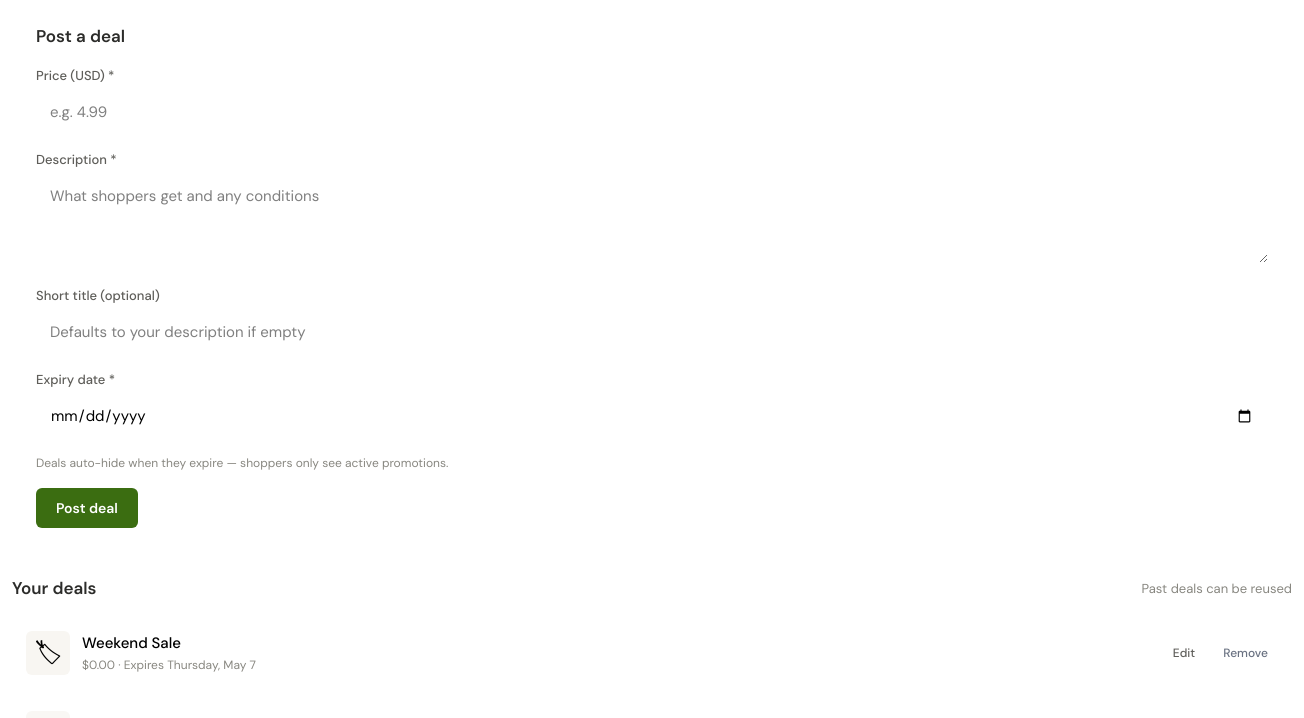
it: ManageDealsClient component › shows an edit form when the Edit button is clicked on an active deal
Expected: the text "Weekend Sale" is shown, x1=82 y1=633 x2=181 y2=653
Click the button "Edit" at [1184, 653], box x1=1163 y1=640 x2=1205 y2=666
(page scrolled)
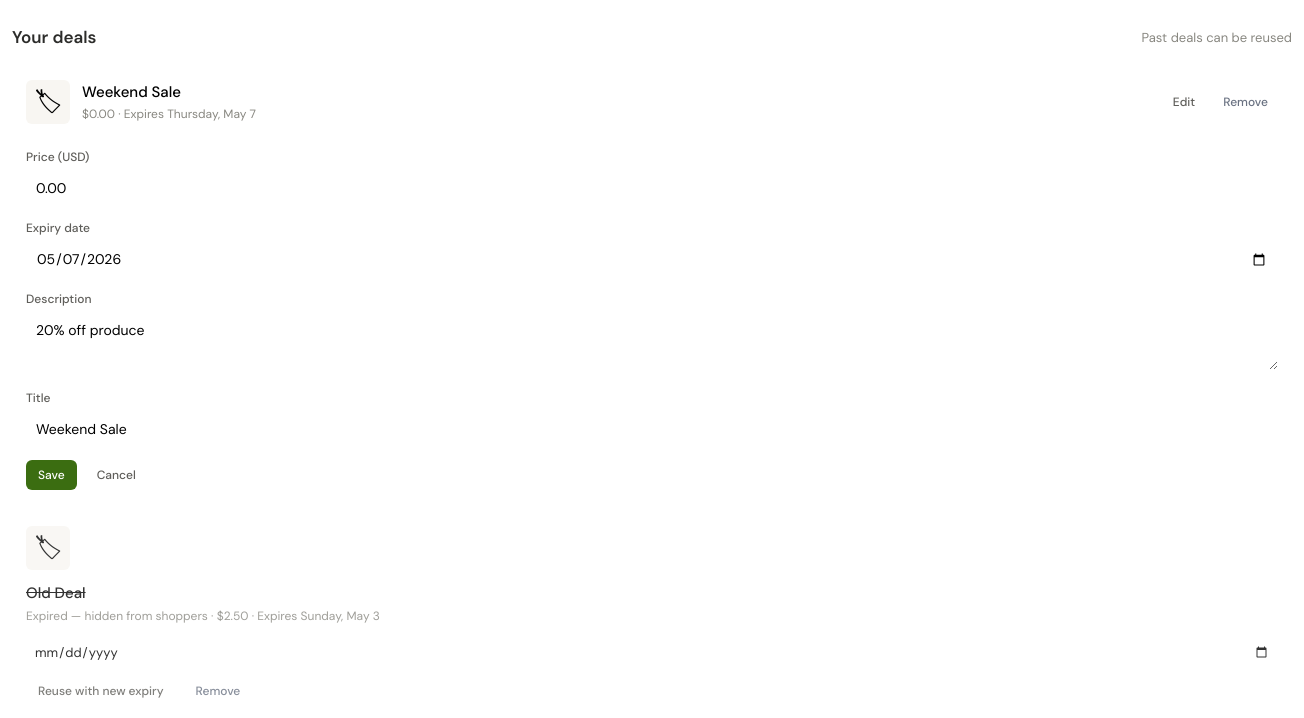
Expected: the button "Save" is shown, x1=26 y1=460 x2=77 y2=490
Expected: the button "Cancel" is shown, x1=85 y1=460 x2=148 y2=490
